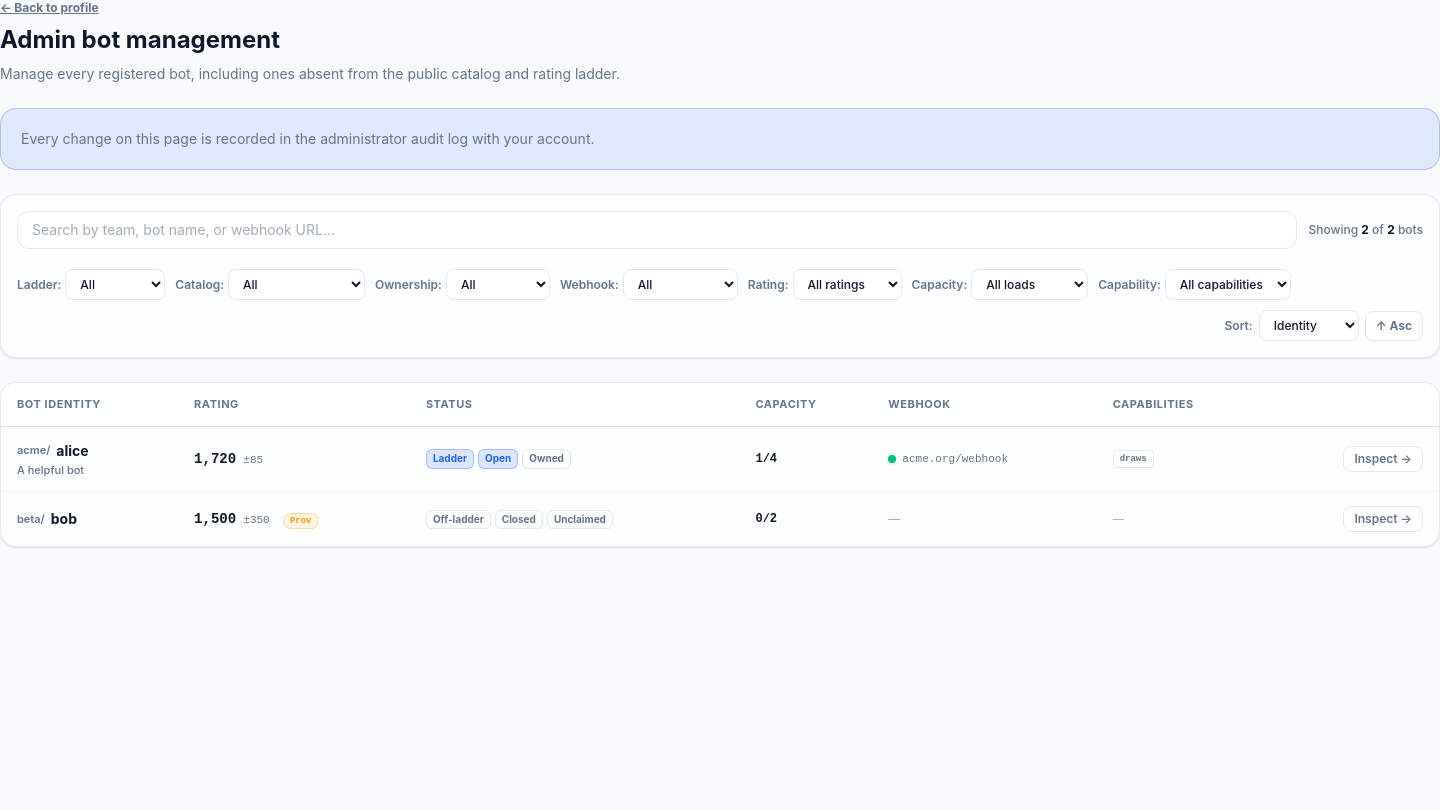
Test: /me/admin/bots › opens detail drawer when a bot is selected from inventory
Click the button "Inspect →" in the row of "acme/" at (1383, 459), box [1344,446,1423,472]
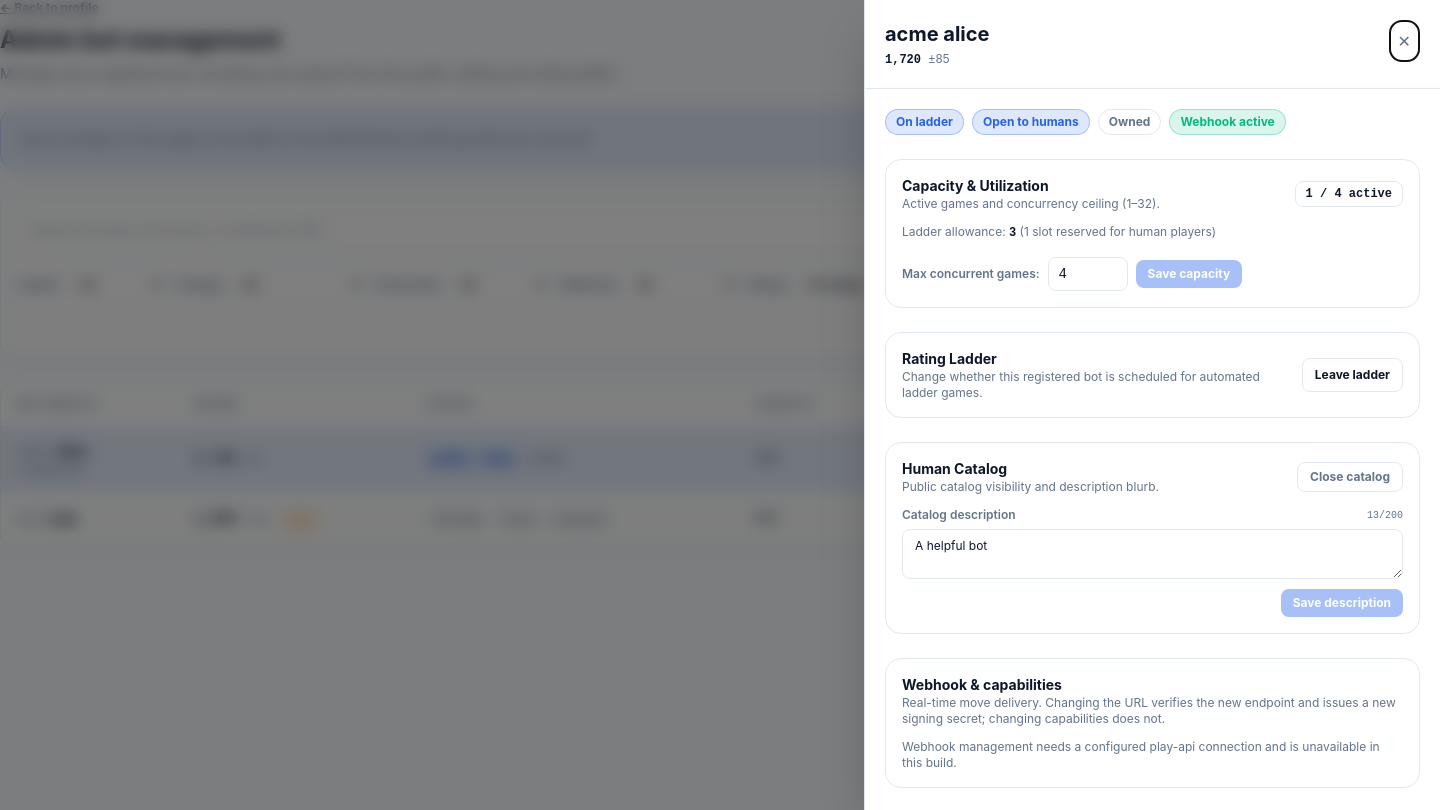
Now the dialog named "details for acme alice" is shown, box [864,0,1439,809]
